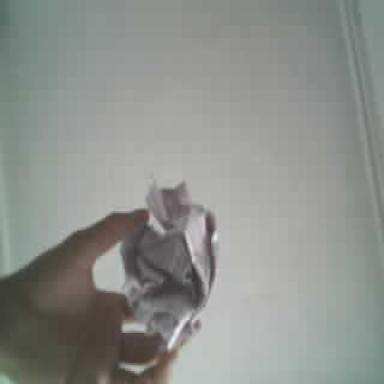paper: (121, 182, 217, 349)
